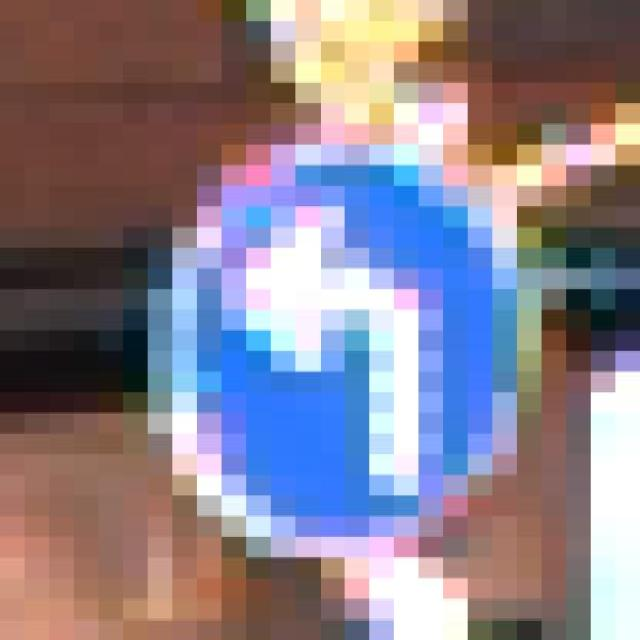Turn left ahead: (148, 124, 566, 558)
